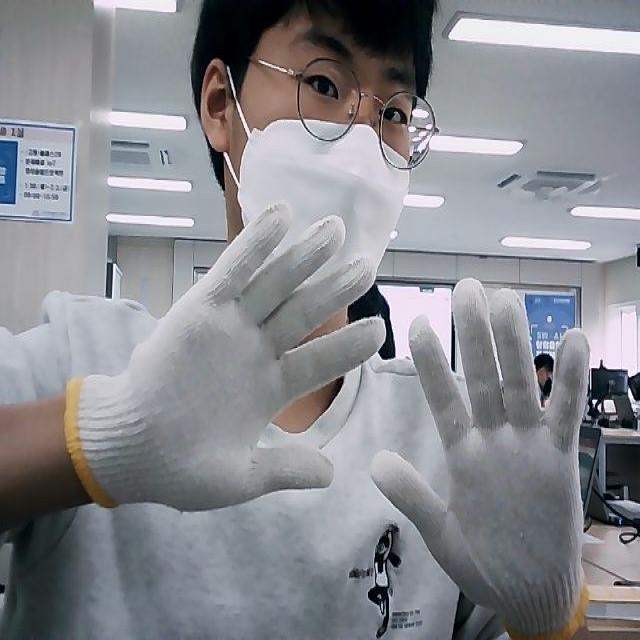Guantes: (64, 205, 387, 514), (399, 278, 590, 639)
